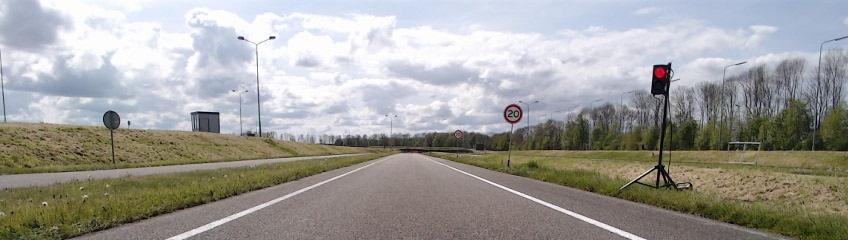Speed-limit-10km-h-: (454, 129, 463, 139)
Speed-limit-20km-h-: (503, 104, 523, 124)
TrafficLight-red: (651, 65, 668, 95)
